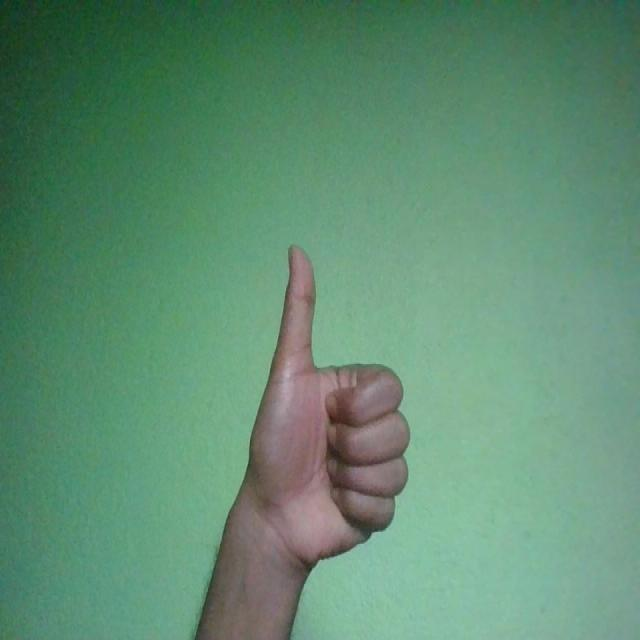Good Job: (248, 243, 411, 572)
